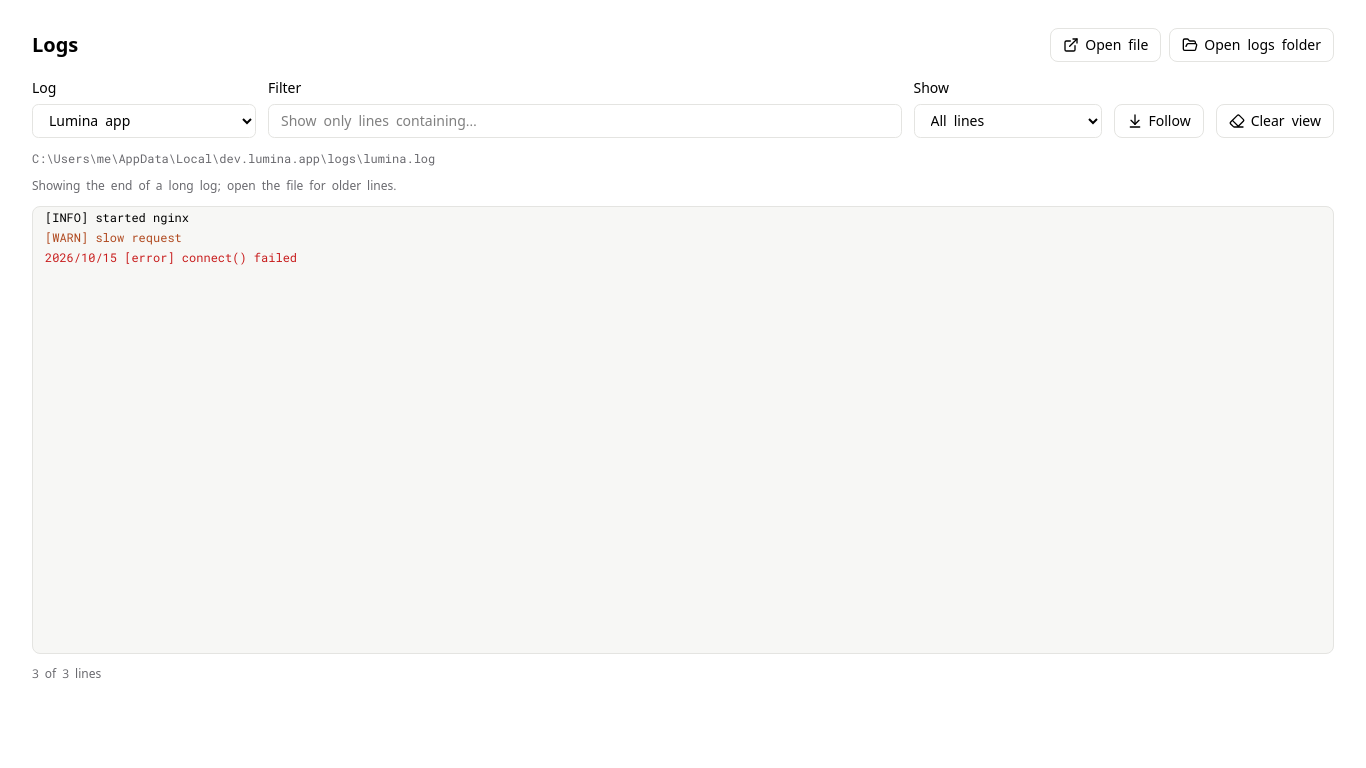
Scenario: LogsPage › tails the chosen log and filters it
Expected: the text "[INFO] started nginx" is shown, x1=33 y1=207 x2=201 y2=227
Expected: the element named "Log lines" does not show "partial", x1=32 y1=206 x2=1334 y2=654
Step 1. Select "Errors only" in the dropdown labelled "Show" → [1008, 121], box x1=914 y1=104 x2=1102 y2=138
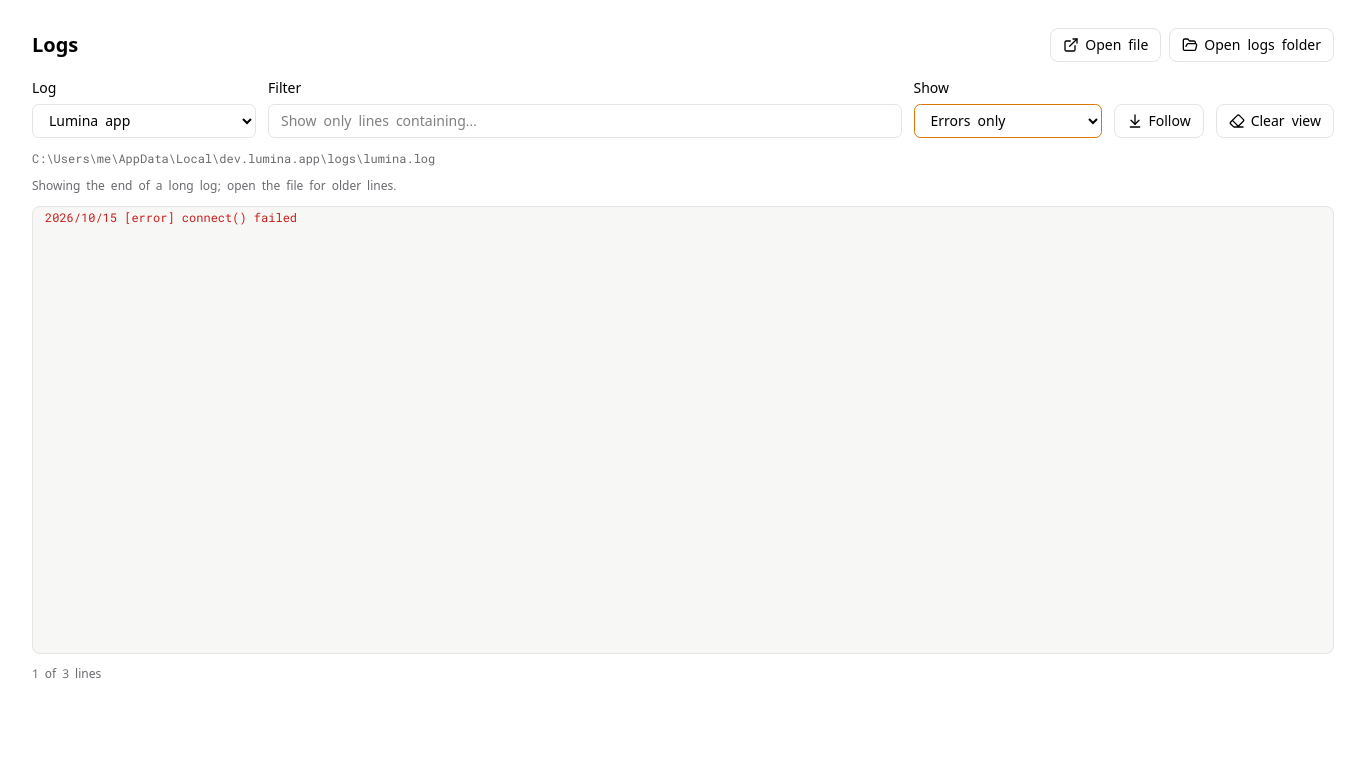
Expected: the element named "Log lines" shows "connect() failed", x1=45 y1=209 x2=297 y2=225
Expected: the element named "Log lines" no longer shows "slow request", x1=32 y1=206 x2=1334 y2=654
Step 2. Select "All lines" in the dropdown labelled "Show" → [1008, 121], box x1=914 y1=104 x2=1102 y2=138
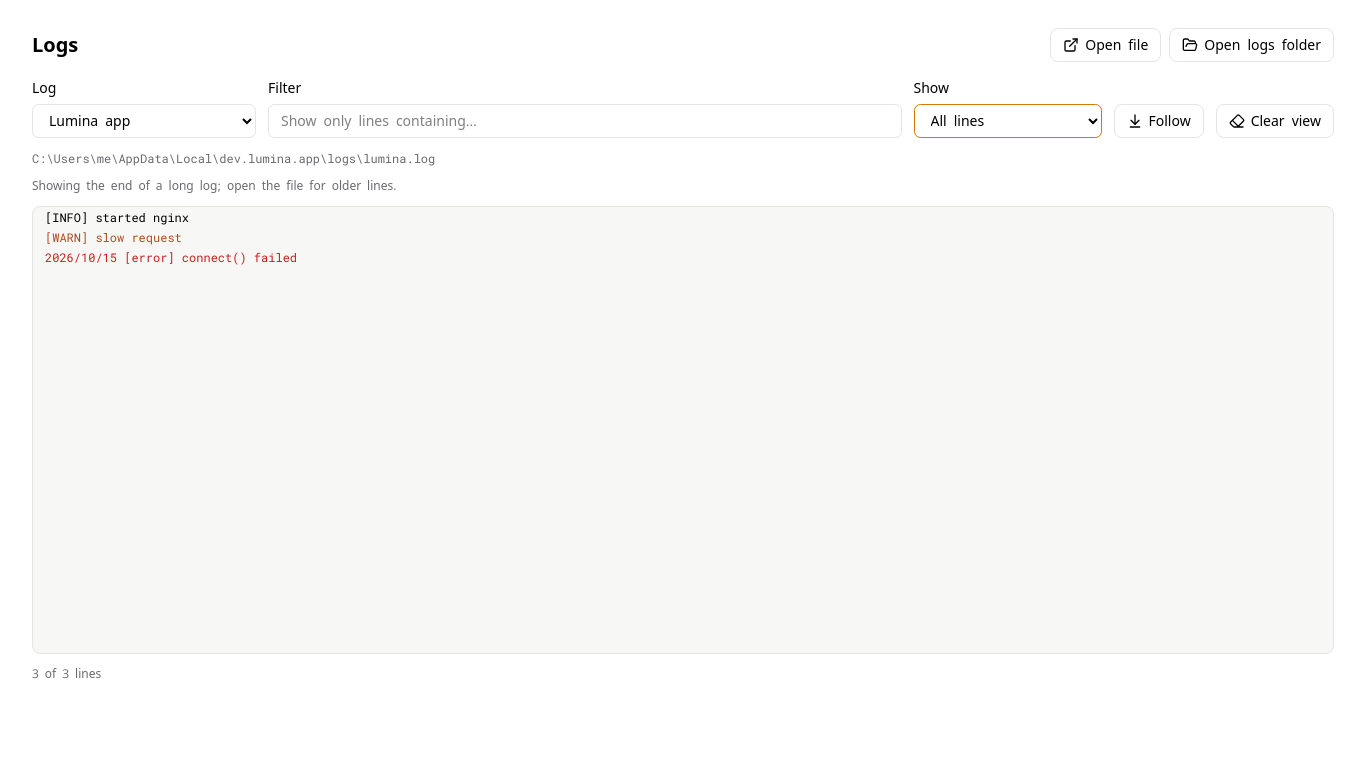
Step 3. Type "SLOW" into the search field labelled "Filter" → [585, 121], box x1=268 y1=104 x2=902 y2=138
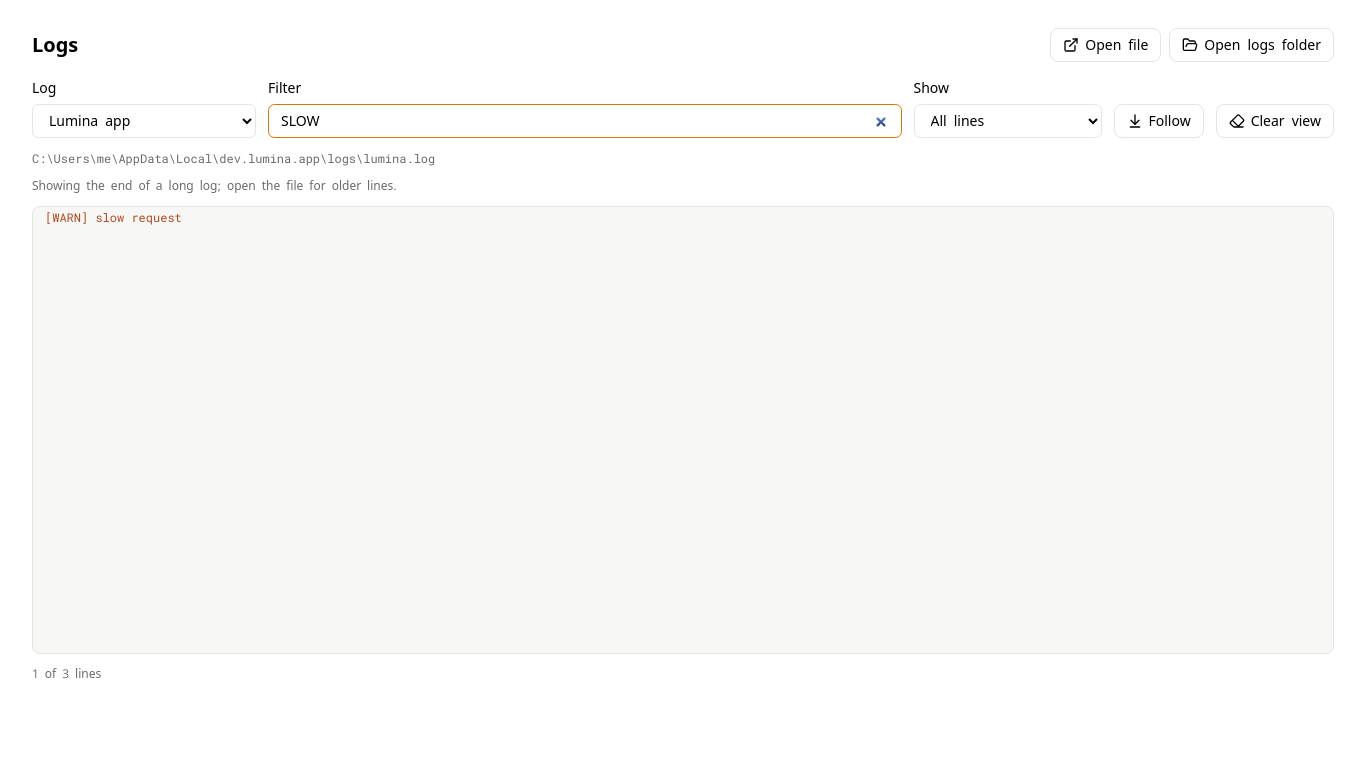
Expected: the element named "Log lines" shows "slow request", x1=45 y1=209 x2=182 y2=225
Expected: the element named "Log lines" no longer shows "started nginx", x1=32 y1=206 x2=1334 y2=654
Expected: the text "1 of 3 lines" is shown, x1=32 y1=666 x2=101 y2=682
